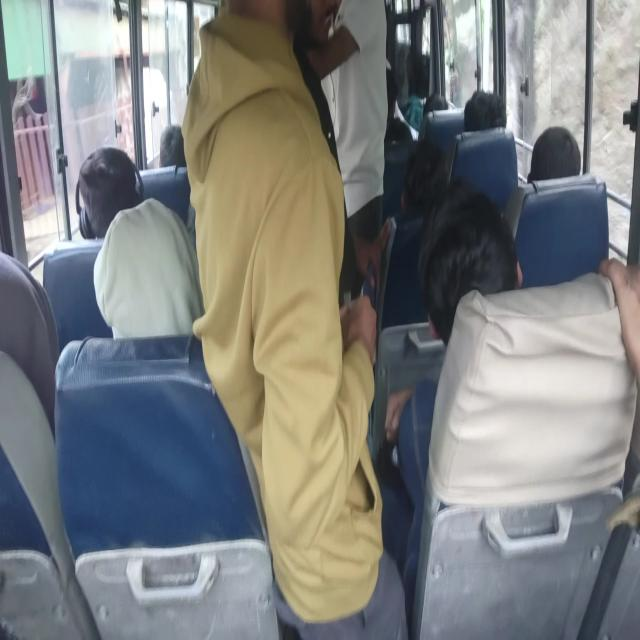person: (178, 0, 340, 219), (420, 210, 512, 346), (322, 0, 394, 142), (0, 271, 73, 400), (114, 198, 184, 308), (400, 150, 451, 213), (81, 153, 134, 211), (528, 130, 576, 191), (462, 95, 506, 153), (156, 127, 190, 170), (423, 92, 451, 116)
